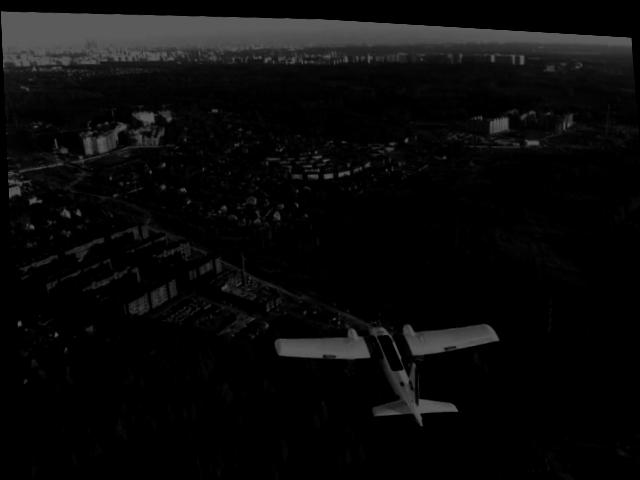hedef: (262, 286, 526, 437)
